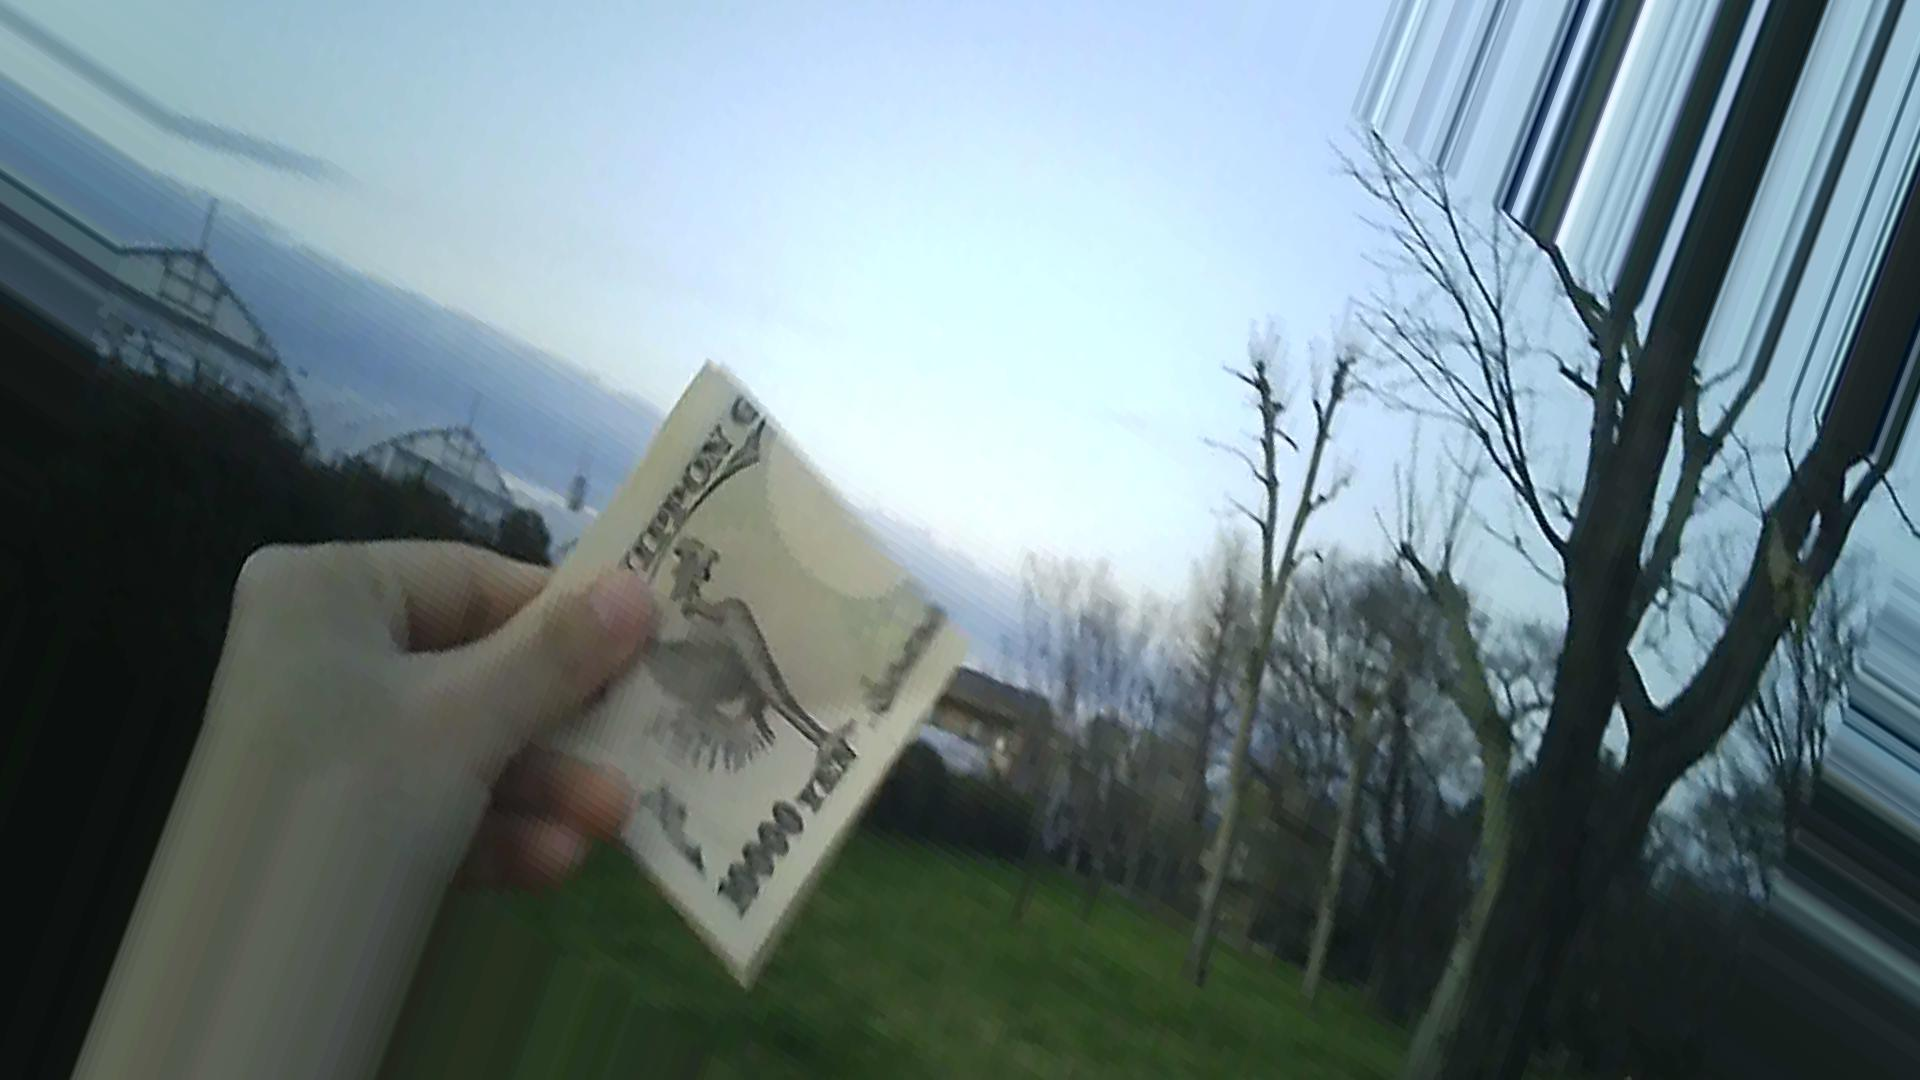10,000 Yen: (464, 361, 957, 1010)
